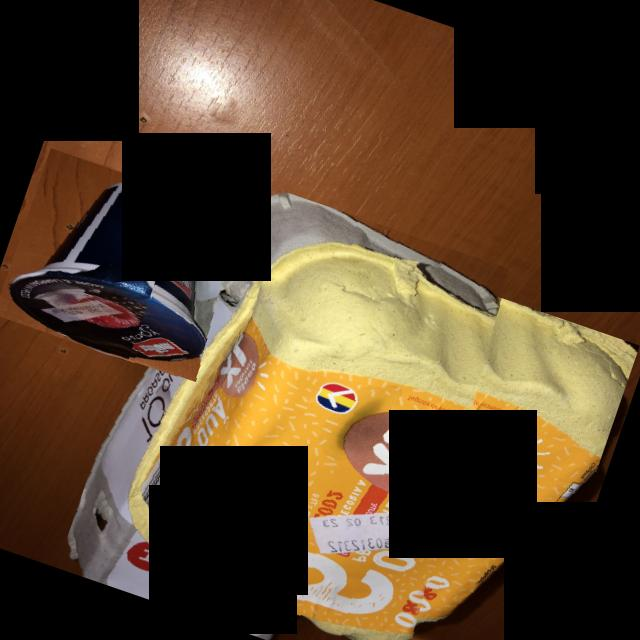eggs: (56, 161, 538, 640), (113, 206, 639, 640)
yogurt: (0, 148, 267, 389)
